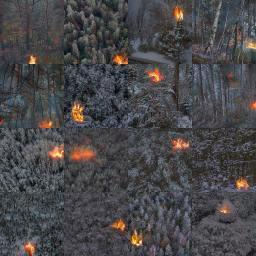Small fire: (72, 147, 98, 163), (170, 135, 191, 154), (49, 143, 66, 166), (144, 67, 165, 85), (71, 103, 85, 128), (233, 175, 253, 192), (108, 216, 128, 233), (130, 230, 144, 248), (37, 119, 59, 130), (22, 240, 37, 256), (172, 5, 185, 23), (218, 202, 231, 219), (112, 53, 132, 63), (26, 53, 39, 66), (247, 38, 256, 55), (247, 96, 256, 112)
